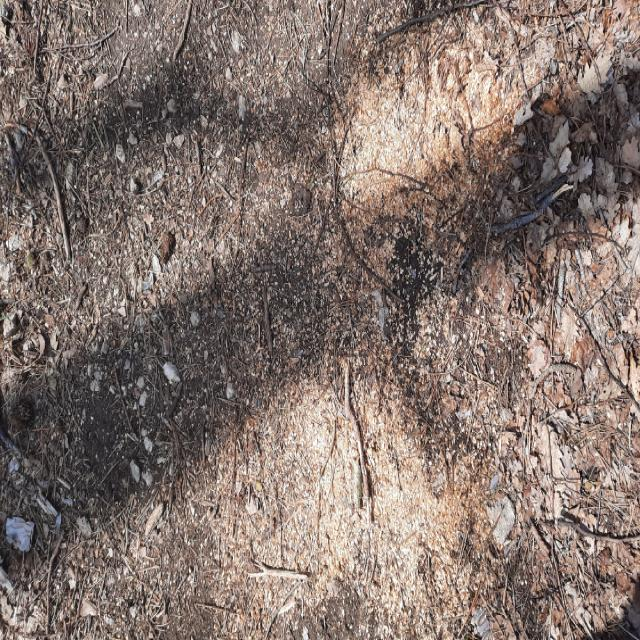white-sand: (0, 0, 639, 639), (187, 210, 191, 213)
